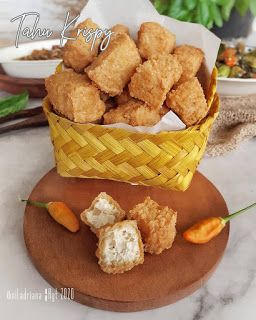Tahu: (82, 219, 147, 280), (51, 67, 99, 121), (134, 55, 187, 100), (95, 32, 130, 93), (125, 197, 170, 244)
